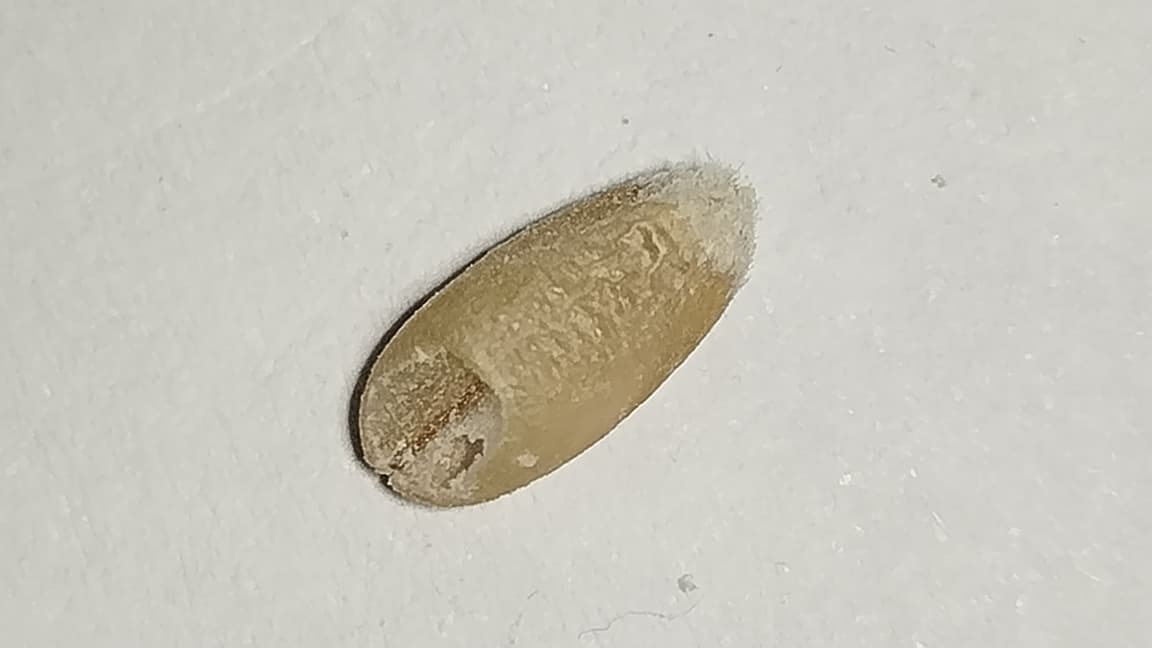damage: (349, 155, 758, 508)
insectdamage: (358, 313, 505, 502)
